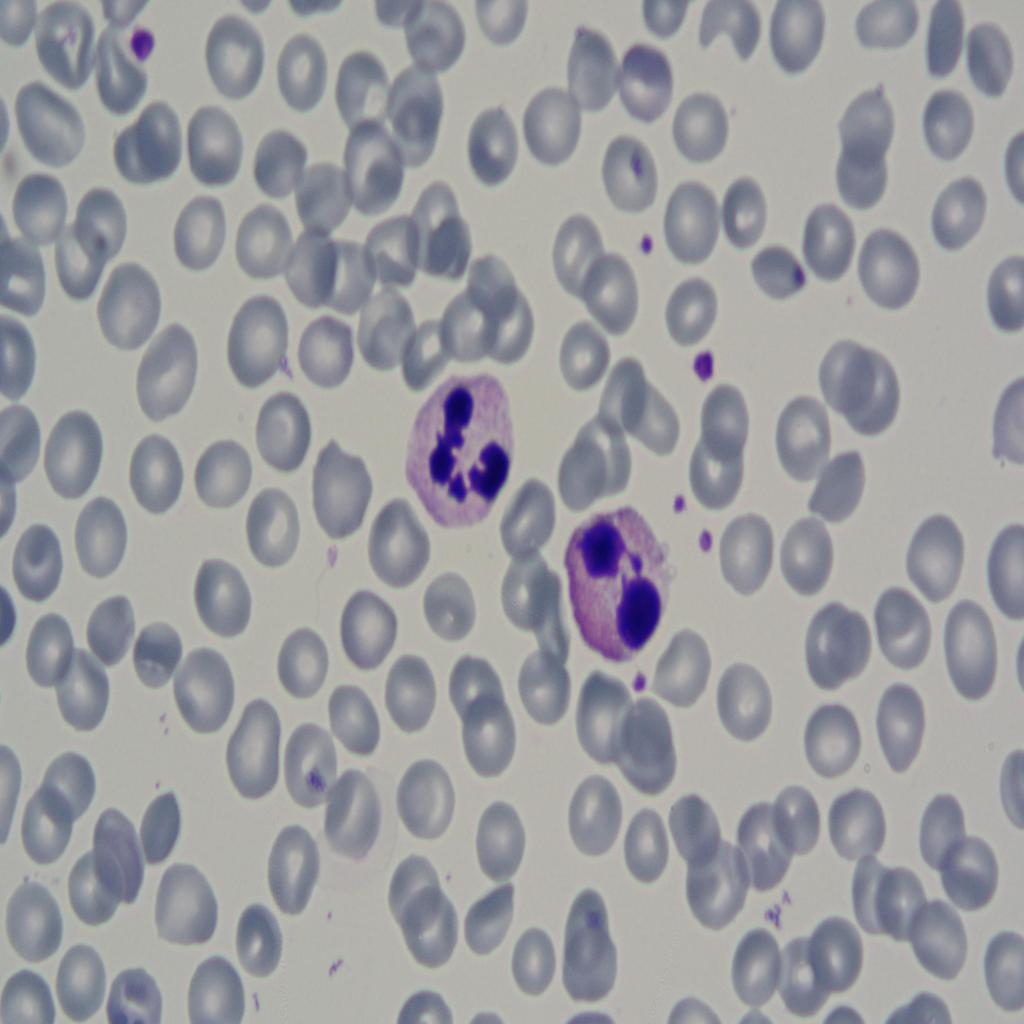Eosinofil: (562, 504, 670, 663)
Neutrofil: (400, 354, 518, 543)
Platelet: (624, 228, 670, 272), (656, 478, 693, 528), (690, 336, 721, 393), (300, 752, 328, 804), (624, 666, 651, 706), (130, 28, 162, 57), (697, 530, 722, 567), (788, 251, 810, 292), (624, 140, 644, 175)
